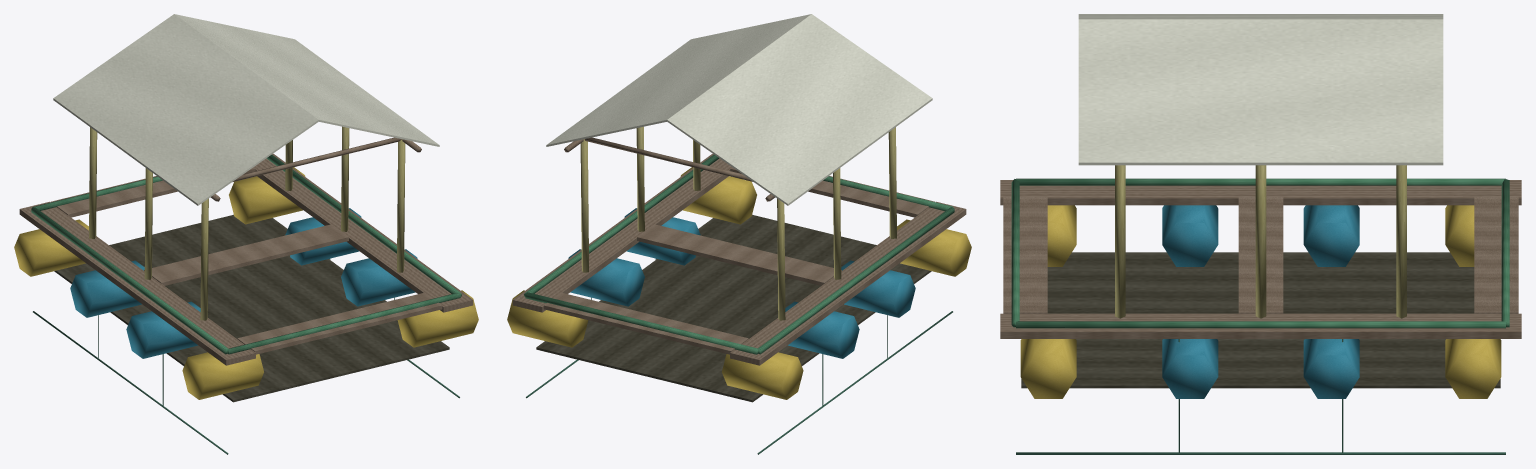
The model's file is bung-raft-0-white-mid.glb.
3 views of the same model, side by side, from view 1: azimuth 30°, elevation 25°; view 2: azimuth 150°, elevation 25°; view 3: azimuth 270°, elevation 25° (orthographic). The views are drawn at different scales.
Visible parts, largest first — view 1: bung-raft-0-white-mid; view 2: bung-raft-0-white-mid; view 3: bung-raft-0-white-mid.
Boxes of the visible parts, <box> form: bung-raft-0-white-mid: <box>14,14,478,454</box>; bung-raft-0-white-mid: <box>507,14,971,454</box>; bung-raft-0-white-mid: <box>1000,14,1521,454</box>.
Size of the model in its own units: 4.14 by 4.17 by 5.4.
Materials: 1 (1 with a texture image).
